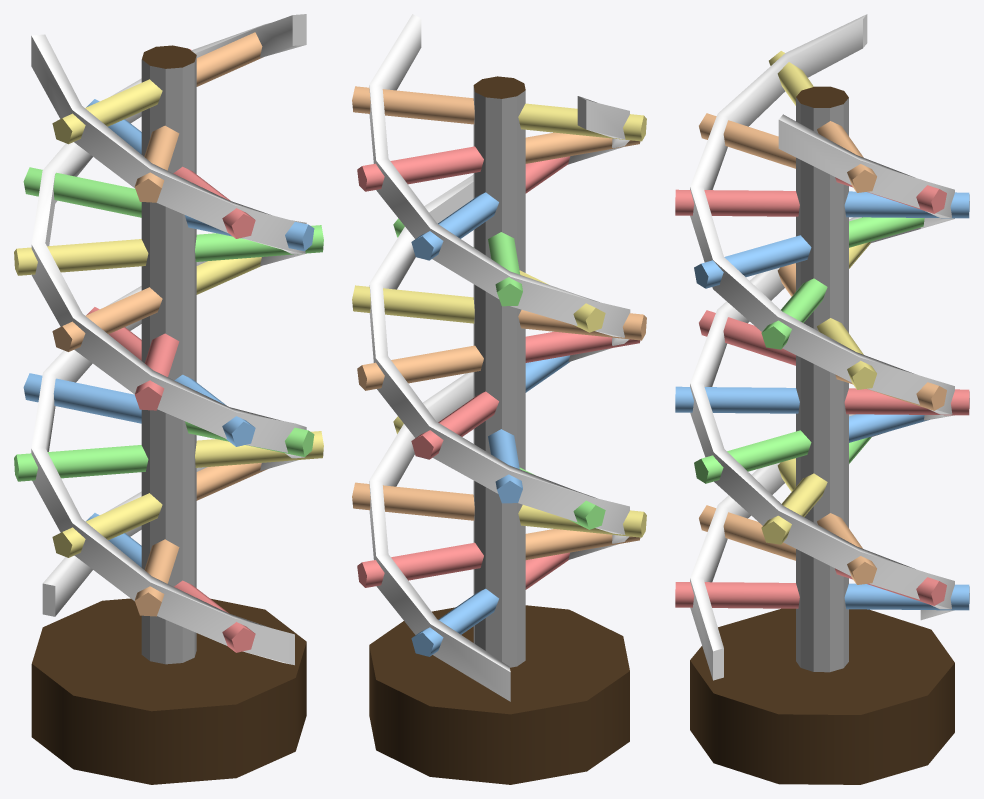
Rendered from DNA Model.fbx.
3 renders of one model, left to right at view 1: azimuth 30°, elevation 25°; view 2: azimuth 150°, elevation 25°; view 3: azimuth 270°, elevation 25°, orthographic. The views are drawn at different scales.
Visible parts, largest first — view 1: DNA_Model; view 2: DNA_Model; view 3: DNA_Model.
Boxes of the visible parts, <box> form: DNA_Model: <box>14,14,323,784</box>; DNA_Model: <box>352,14,646,784</box>; DNA_Model: <box>675,14,969,784</box>.
Bounding box in the file's own units: 2.18 × 5.53 × 2.22.
